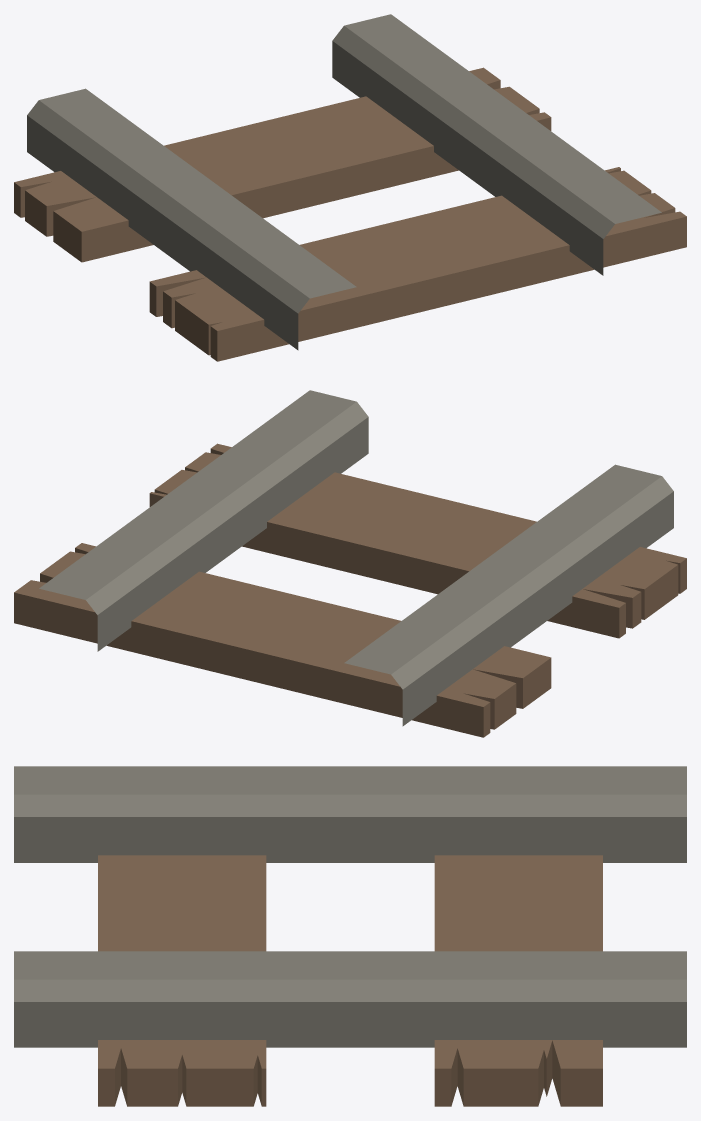
File: Cave_Prop_Railway_Straight_2.glb
3 views of the same model, one above another, from view 1: azimuth 30°, elevation 25°; view 2: azimuth 150°, elevation 25°; view 3: azimuth 270°, elevation 25° (orthographic). The views are drawn at different scales.
Visible parts, largest first — view 1: Cave_Prop_Railway_Straight_2; view 2: Cave_Prop_Railway_Straight_2; view 3: Cave_Prop_Railway_Straight_2.
Boxes of the visible parts, x1=… form: Cave_Prop_Railway_Straight_2: x1=14, y1=14, x2=686, y2=361; Cave_Prop_Railway_Straight_2: x1=14, y1=390, x2=686, y2=737; Cave_Prop_Railway_Straight_2: x1=14, y1=766, x2=686, y2=1106.
Size of the model in its own units: 1 by 0.15 by 1.
